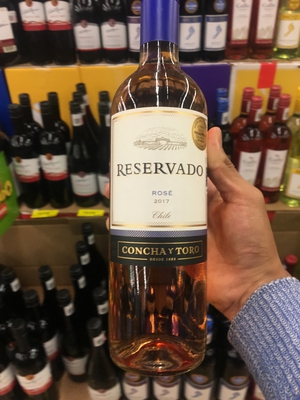reservado rose: (99, 6, 235, 371)
